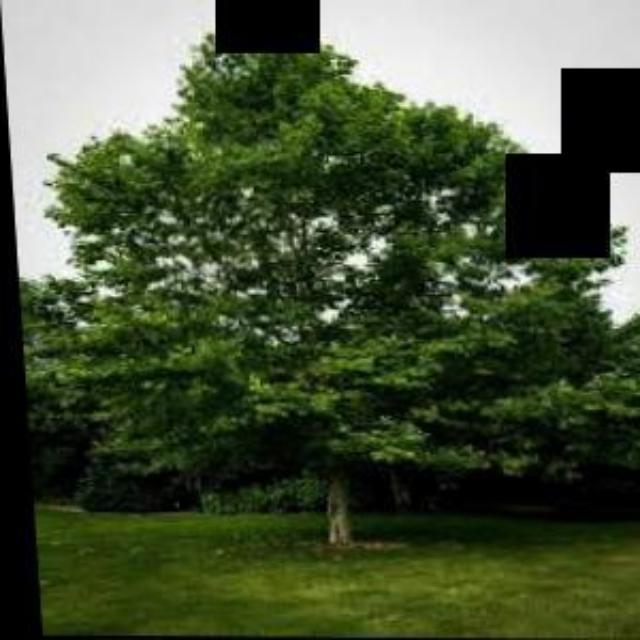tree: (45, 11, 633, 546)
